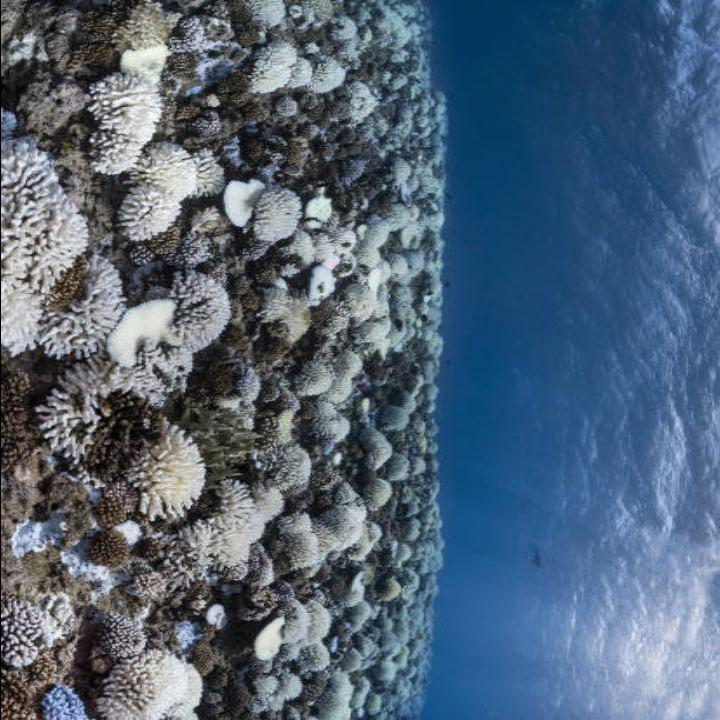Bleached disease: (26, 8, 430, 699)
